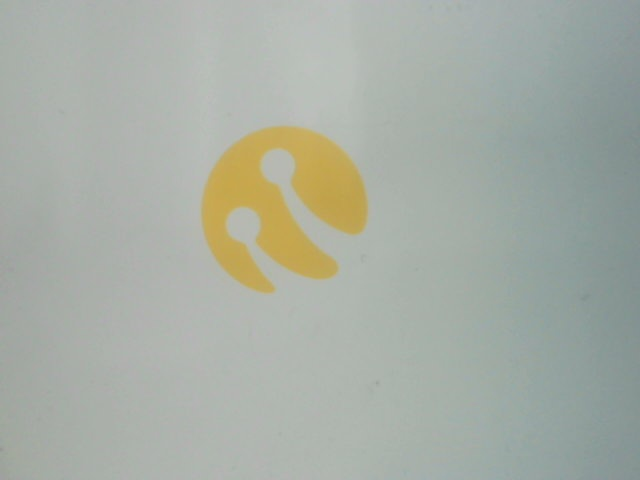AV_H3600Yellow: (182, 115, 384, 307)
